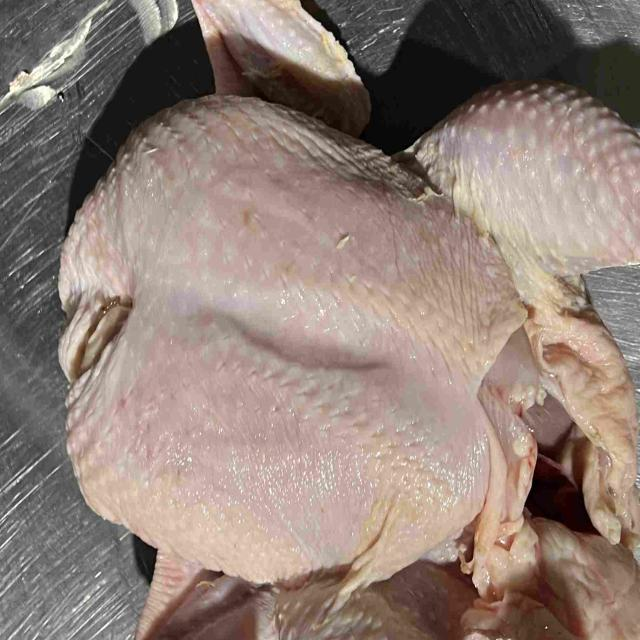breast: (59, 96, 570, 593)
leg: (389, 79, 640, 312)
wing: (190, 0, 371, 138), (134, 549, 279, 640)
